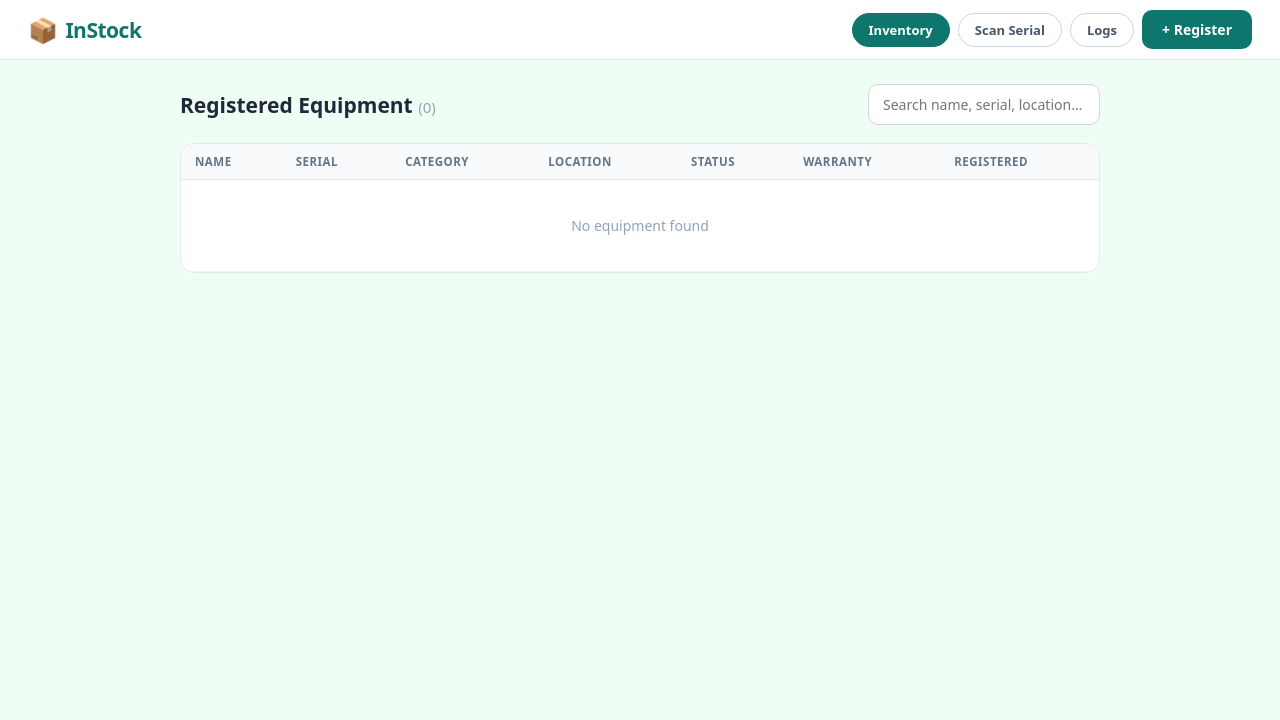
Scenario: InStock — Sprint 2 Integration Tests › Register Choice Modal › shows Import CSV and Manual Entry options when + Register is clicked
What coordinates should you click on to do the following:
click the button "+ Register"
I would click on:
 (1197, 30)
Its box is [1142,10,1252,49].
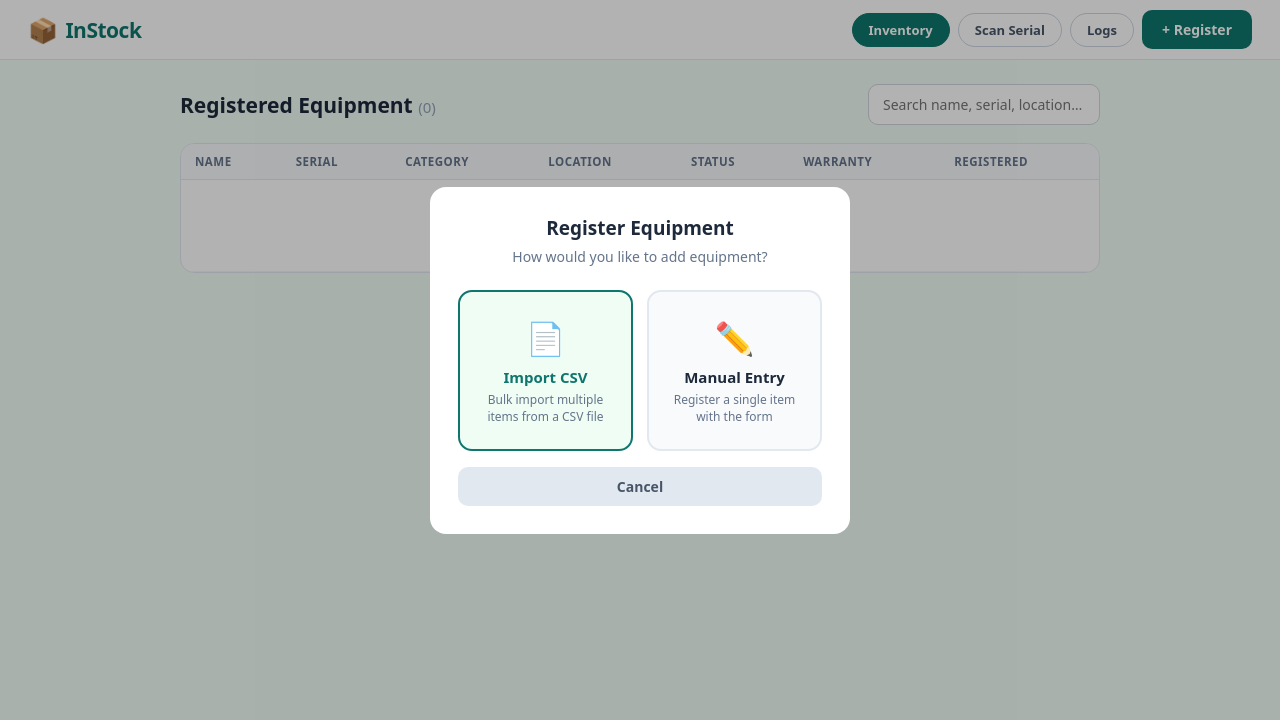
Expected: the text "Import CSV" is shown, [503,366,588,386]
Expected: the text "Manual Entry" is shown, [684,366,785,386]
